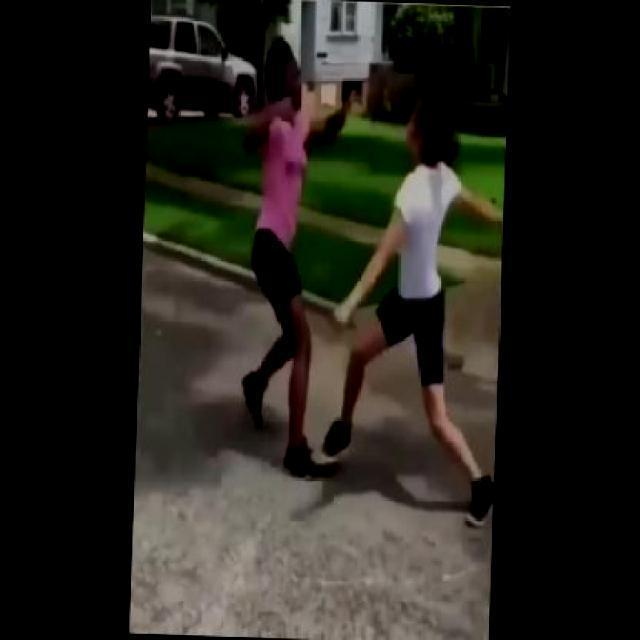fight: (228, 38, 507, 522)
